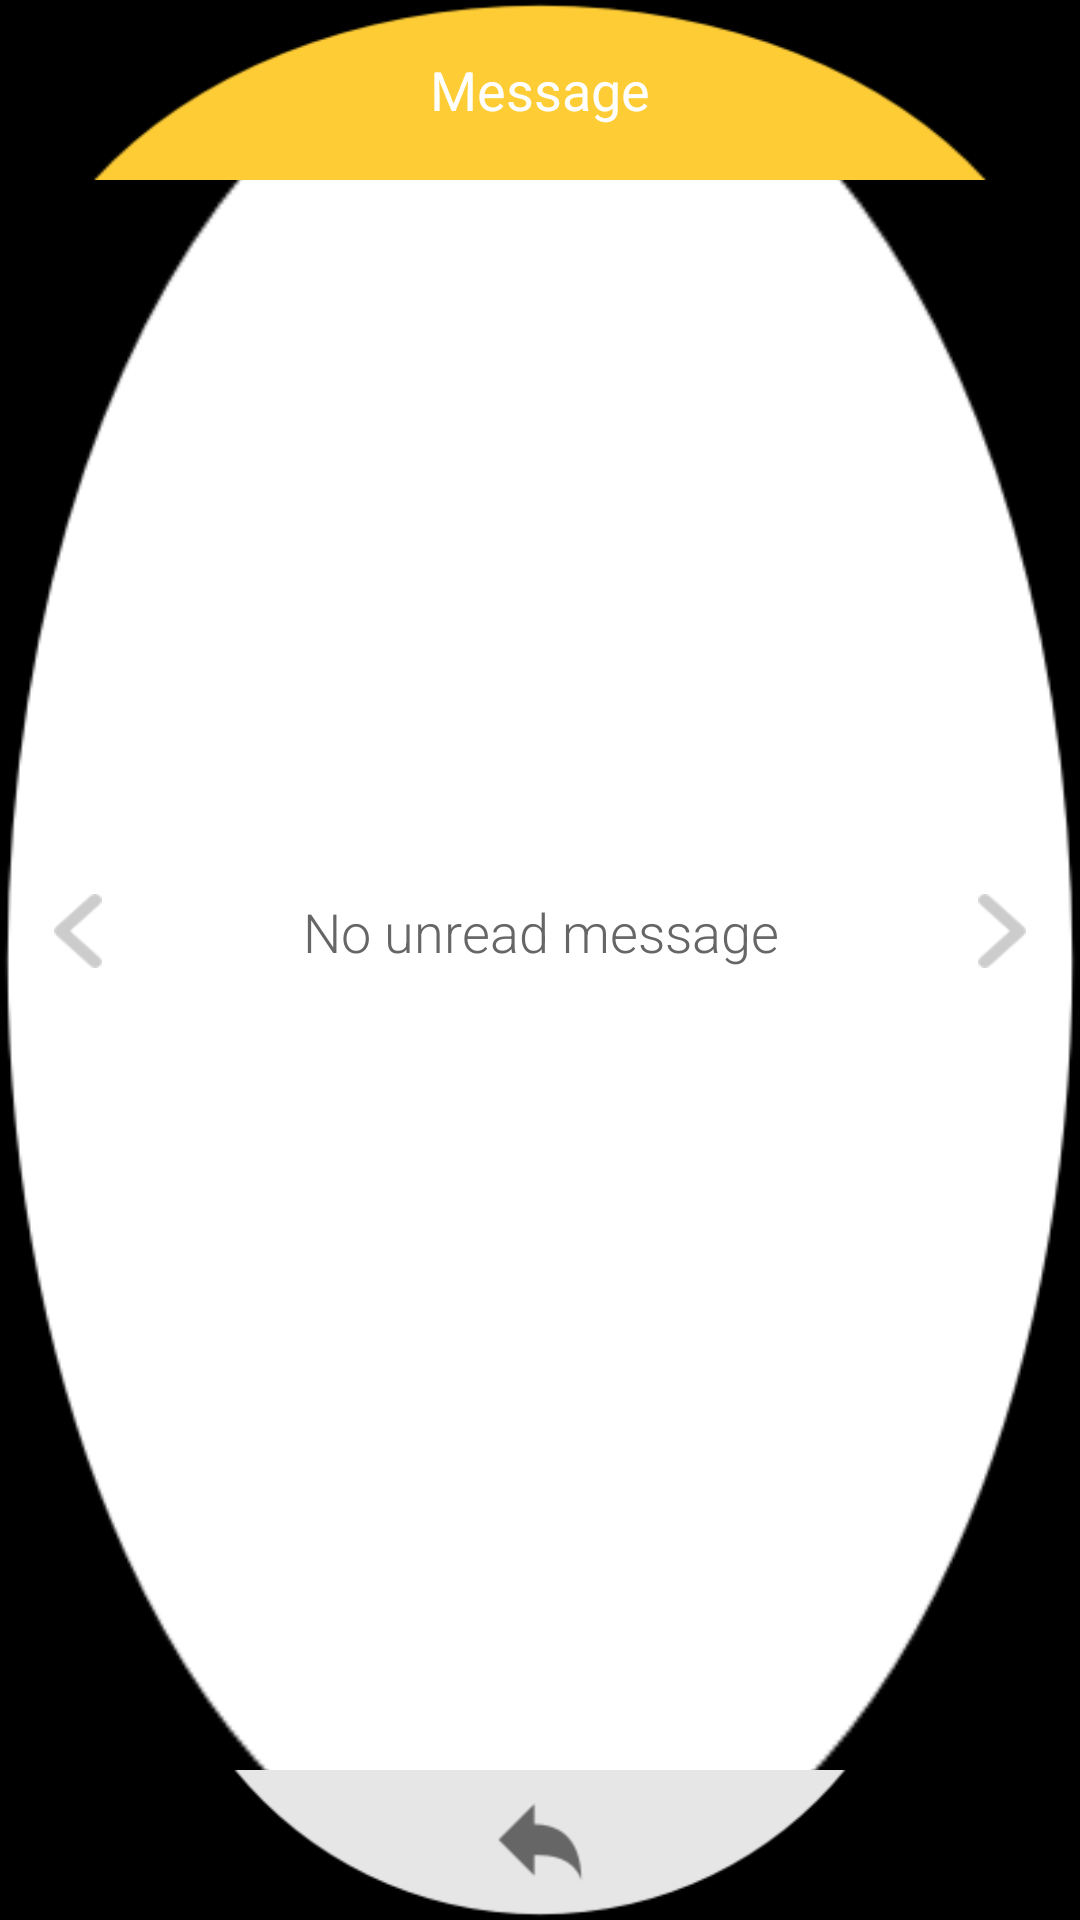

Icon click points for this 1080x1920 phone screenshot, format (x=x, y=y):
forward: (x=1002, y=931)
